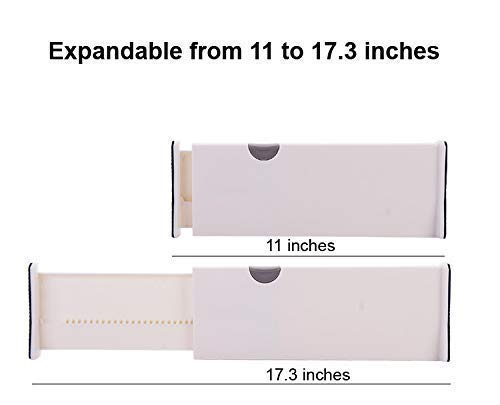11: (251, 42, 271, 59), (267, 239, 280, 251)
17.3: (312, 42, 356, 59), (267, 368, 297, 381)
Expandable: (50, 42, 182, 64)
from: (190, 42, 241, 59)
inches: (366, 42, 439, 59), (303, 368, 350, 381), (288, 239, 335, 251)
to: (282, 42, 303, 59)
w: (249, 267, 281, 283)
